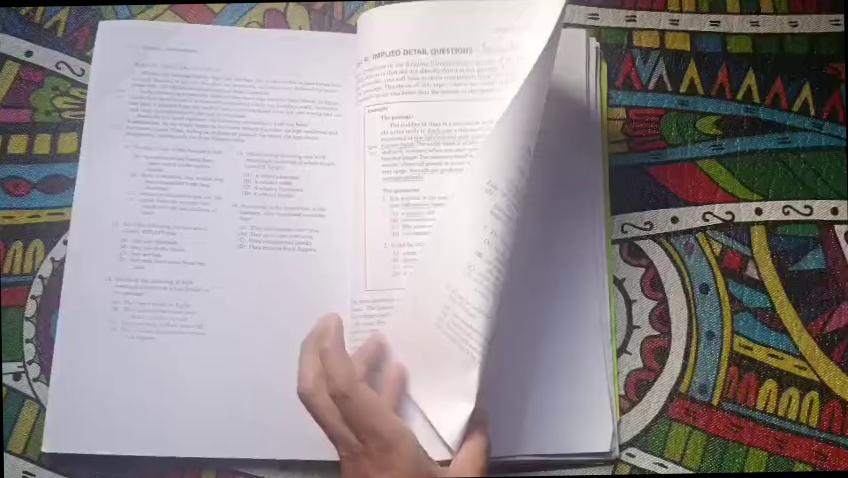Kertas: (96, 16, 294, 457), (287, 29, 491, 324)
